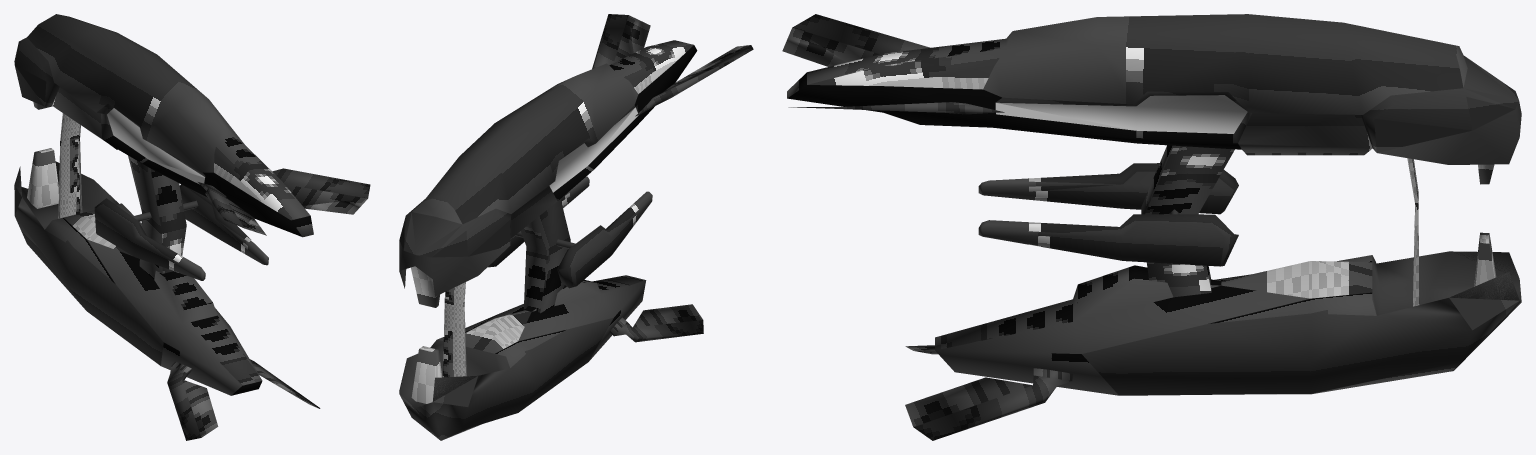
Rendered from PlasmaRifle.FBX.
The picture shows the model from 3 angles, left to right: view 1: azimuth 30°, elevation 25°; view 2: azimuth 150°, elevation 25°; view 3: azimuth 270°, elevation 25°; orthographic projection. The views are drawn at different scales.
Parts seen in each view (by area): view 1: PlasmaRifle, LeftCover, RightCover; view 2: PlasmaRifle, LeftCover, RightCover; view 3: PlasmaRifle, RightCover, LeftCover.
Part boxes in pixels (bbox=[...]): PlasmaRifle: bbox=[14, 14, 370, 440]; LeftCover: bbox=[94, 198, 205, 280]; RightCover: bbox=[179, 184, 268, 265]; PlasmaRifle: bbox=[399, 14, 753, 440]; LeftCover: bbox=[556, 191, 652, 288]; RightCover: bbox=[488, 176, 589, 267]; PlasmaRifle: bbox=[782, 14, 1521, 440]; RightCover: bbox=[978, 209, 1238, 266]; LeftCover: bbox=[978, 163, 1238, 214].
Size of the model in its own units: 256 by 851 by 487.
1 material, 1 textured.
